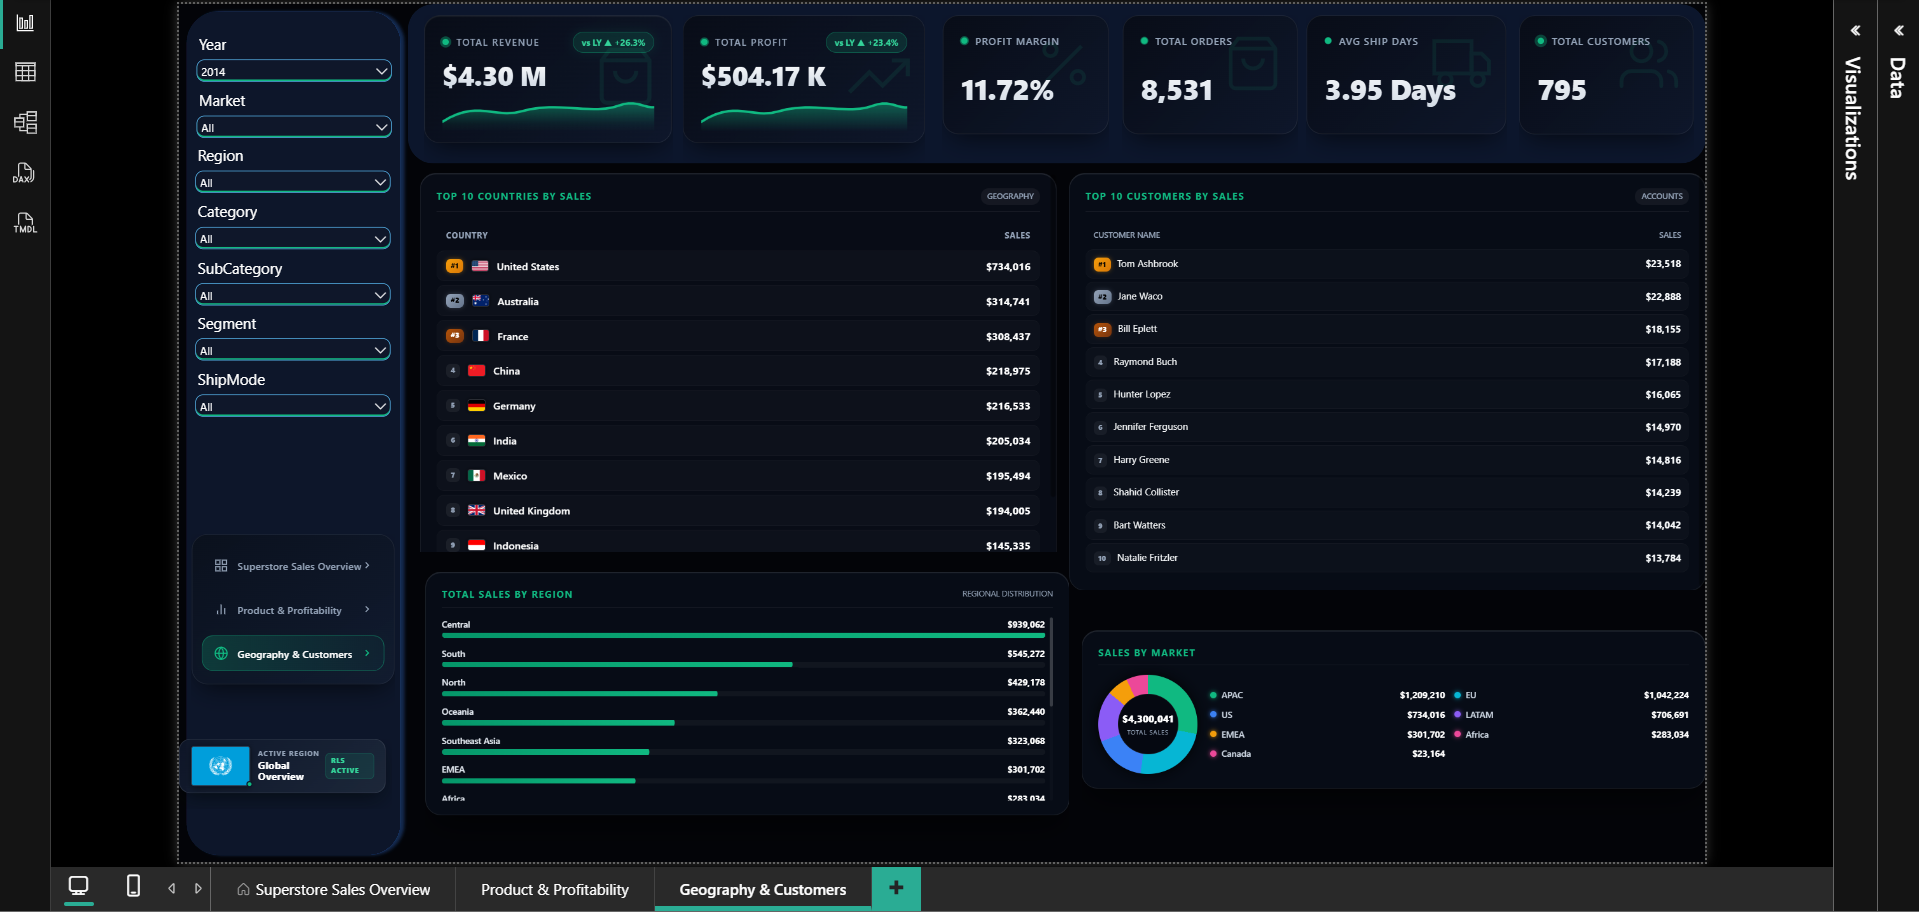

The dashboard page shown, as its layout file describes it:
{"tool":"powerbi","page":{"name":"Geography & Customers","canvas":[1920,1080],"ordinal":2},"visuals":[{"type":"shape","box":[0,0,288,1079.9],"z":0},{"type":"slicer","fields":{"Values":["dw DimDate.Year"]},"box":[18,37.8,255.6,70.2],"z":1000},{"type":"slicer","fields":{"Values":["dw DimGeography.Market"]},"box":[18,108,255.6,70.2],"z":2000},{"type":"slicer","fields":{"Values":["dw DimGeography.Region"]},"box":[16.2,178.2,255.6,70.2],"z":3000},{"type":"slicer","fields":{"Values":["dw DimProduct.Category"]},"box":[16.2,248.4,255.6,70.2],"z":4000},{"type":"slicer","fields":{"Values":["dw DimProduct.SubCategory"]},"box":[16.2,318.6,255.6,70.2],"z":5000},{"type":"slicer","fields":{"Values":["dw DimCustomer.Segment"]},"box":[16.2,388.8,255.6,70.2],"z":6000},{"type":"slicer","fields":{"Values":["dw DimShipping.ShipMode"]},"box":[16.2,458.9,255.6,66.6],"z":7000},{"type":"pageNavigator","box":[17,590.4,253.5,238.2],"z":8000},{"type":"barChart","fields":{"Category":["dw DimGeography.Region"],"Y":["dw FactSales.Total Sales"]},"box":[1037.8,212.7,847.3,260.3],"z":9000},{"type":"donutChart","title":"Sales By Market","fields":{"Y":["dw FactSales.Total Sales"],"Category":["dw DimGeography.Market"]},"box":[303.5,200.6,734.3,259.9],"z":10000},{"type":"tableEx","title":"TOP 10 Countries By Sales","fields":{"Values":["dw DimGeography.Country","dw FactSales.Total Sales"]},"box":[303.5,477.9,781.4,249.4],"z":11000},{"type":"barChart","title":"Sales By ShipMode","fields":{"Category":["dw DimShipping.ShipMode"],"Y":["dw FactSales.Total Sales"]},"box":[1093.6,467.4,826.7,259.9],"z":12000},{"type":"tableEx","title":"TOP 10 Customers By Sales","fields":{"Values":["dw DimCustomer.CustomerName","Sum(dw FactSales.Sales)","Sum(dw FactSales.Profit)","dw FactSales.Profit Margin %"]},"box":[340.1,709.9,1580.8,370.5],"z":13000},{"type":"cardVisual","fields":{"Data":["dw FactSales.Total Sales"]},"box":[304.4,14.4,291.8,187.3],"z":14000},{"type":"lineChart","fields":{"Y":["dw FactSales.Total Sales"],"Category":["dw DimDate.Month"]},"box":[270.2,108.1,326,79.2],"z":15000},{"type":"cardVisual","fields":{"Data":["dw FactSales.Total Profit"]},"box":[623.2,14.4,291.8,187.3],"z":16000},{"type":"lineChart","fields":{"Y":["dw FactSales.Total Profit"],"Category":["dw DimDate.Month"]},"box":[596.5,104.7,315.2,79.2],"z":16001},{"type":"cardVisual","fields":{"Data":["dw FactSales.Profit Margin %"]},"box":[943.8,14.4,291.8,187.3],"z":16002},{"type":"cardVisual","fields":{"Data":["dw FactSales.Orders"]},"box":[1266.2,14.4,291.8,187.3],"z":16003},{"type":"cardVisual","fields":{"Data":["dw FactSales.Total Customers"]},"box":[1594,14.4,291.8,187.3],"z":16004}]}

Visuals, with their boxes on the page's 1920x1080 design canvas (x1, y1, x2, y2). These are canvas units, not pixel positions in the 1919x912 screenshot, which may show the page scaled, cropped or inside an application window:
shape: (0, 0, 288, 1080)
slicer - dw DimDate.Year: (18, 38, 274, 108)
slicer - dw DimGeography.Market: (18, 108, 274, 178)
slicer - dw DimGeography.Region: (16, 178, 272, 248)
slicer - dw DimProduct.Category: (16, 248, 272, 319)
slicer - dw DimProduct.SubCategory: (16, 319, 272, 389)
slicer - dw DimCustomer.Segment: (16, 389, 272, 459)
slicer - dw DimShipping.ShipMode: (16, 459, 272, 526)
pageNavigator: (17, 590, 270, 829)
barChart - dw DimGeography.Region x dw FactSales.Total Sales: (1038, 213, 1885, 473)
"Sales By Market" donutChart: (304, 201, 1038, 460)
"TOP 10 Countries By Sales" tableEx: (304, 478, 1085, 727)
"Sales By ShipMode" barChart: (1094, 467, 1920, 727)
"TOP 10 Customers By Sales" tableEx: (340, 710, 1921, 1080)
cardVisual - dw FactSales.Total Sales: (304, 14, 596, 202)
lineChart - dw FactSales.Total Sales x dw DimDate.Month: (270, 108, 596, 187)
cardVisual - dw FactSales.Total Profit: (623, 14, 915, 202)
lineChart - dw FactSales.Total Profit x dw DimDate.Month: (596, 105, 912, 184)
cardVisual - dw FactSales.Profit Margin %: (944, 14, 1236, 202)
cardVisual - dw FactSales.Orders: (1266, 14, 1558, 202)
cardVisual - dw FactSales.Total Customers: (1594, 14, 1886, 202)
